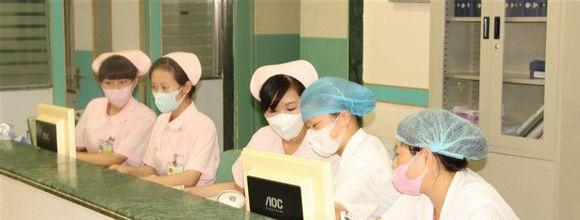OK: (261, 93, 305, 144), (304, 119, 347, 160), (99, 69, 140, 110), (150, 78, 187, 113)
WRONG: (392, 149, 438, 196)
